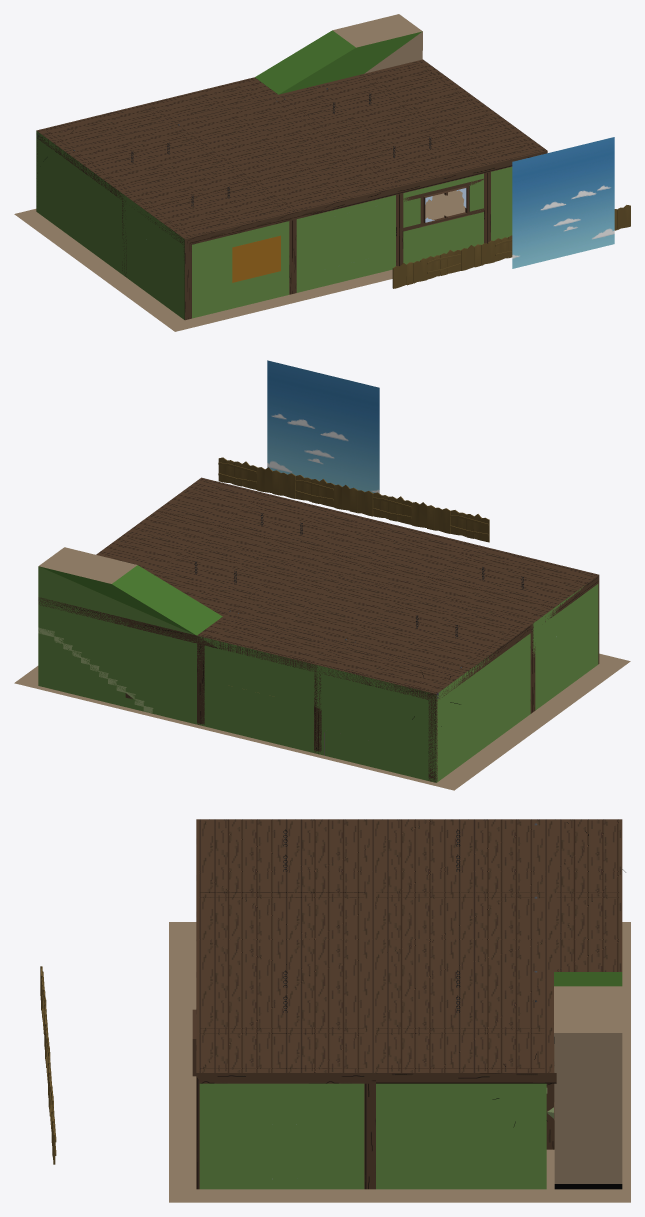
File: frinks-lab-interior-the-simpsons-game.glb
3 renders of one model, top to bottom at view 1: azimuth 30°, elevation 25°; view 2: azimuth 150°, elevation 25°; view 3: azimuth 270°, elevation 25°, orthographic. The views are drawn at different scales.
Parts seen in each view (by area): view 1: Mesh_1_0.011_Mesh.216, Mesh_1_2.003_Mesh.218, Mesh_2_3.002_Mesh.226, Mesh_2_1.004_Mesh.224, Mesh_2_4.001_Mesh.227, Mesh_2_0.008_Mesh.223, Mesh_1_3.001_Mesh.219; view 2: Mesh_2_1.004_Mesh.224, Mesh_1_2.003_Mesh.218, Mesh_1_0.011_Mesh.216, Mesh_2_3.002_Mesh.226, Mesh_2_4.001_Mesh.227, Mesh_2_0.008_Mesh.223, Mesh_1_3.001_Mesh.219; view 3: Mesh_2_1.004_Mesh.224, Mesh_1_2.003_Mesh.218, Mesh_2_3.002_Mesh.226, Mesh_2_0.008_Mesh.223, Mesh_1_0.011_Mesh.216.
Boxes of the visible parts, left/top/right/bottom form: Mesh_1_0.011_Mesh.216: left=14, top=131, right=482, bottom=331; Mesh_1_2.003_Mesh.218: left=36, top=82, right=356, bottom=238; Mesh_2_3.002_Mesh.226: left=209, top=59, right=546, bottom=196; Mesh_2_1.004_Mesh.224: left=192, top=14, right=512, bottom=316; Mesh_2_4.001_Mesh.227: left=512, top=137, right=614, bottom=268; Mesh_2_0.008_Mesh.223: left=151, top=62, right=630, bottom=286; Mesh_1_3.001_Mesh.219: left=36, top=124, right=400, bottom=320; Mesh_2_1.004_Mesh.224: left=14, top=547, right=428, bottom=776; Mesh_1_2.003_Mesh.218: left=206, top=529, right=598, bottom=699; Mesh_1_0.011_Mesh.216: left=50, top=584, right=630, bottom=790; Mesh_2_3.002_Mesh.226: left=96, top=478, right=410, bottom=647; Mesh_2_4.001_Mesh.227: left=267, top=360, right=379, bottom=493; Mesh_2_0.008_Mesh.223: left=38, top=457, right=488, bottom=724; Mesh_1_3.001_Mesh.219: left=314, top=517, right=599, bottom=782; Mesh_2_1.004_Mesh.224: left=169, top=972, right=630, bottom=1202; Mesh_1_2.003_Mesh.218: left=196, top=819, right=622, bottom=939; Mesh_2_3.002_Mesh.226: left=196, top=939, right=622, bottom=1072; Mesh_2_0.008_Mesh.223: left=41, top=969, right=556, bottom=1189; Mesh_1_0.011_Mesh.216: left=169, top=922, right=630, bottom=1051.
Bounding box in the file's own units: 19.82 × 6.41 × 17.77.
10 materials, 10 textured.
